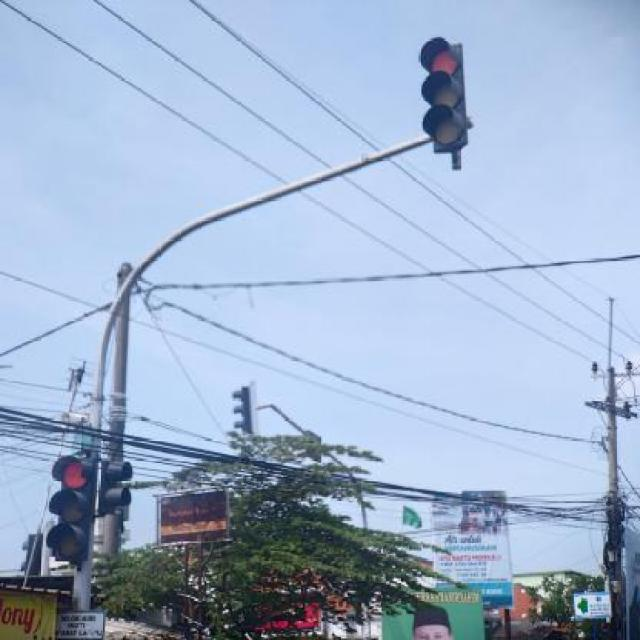traffic light: (51, 457, 96, 569), (424, 45, 466, 151)
